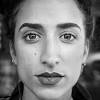face: (18, 21, 85, 87)
